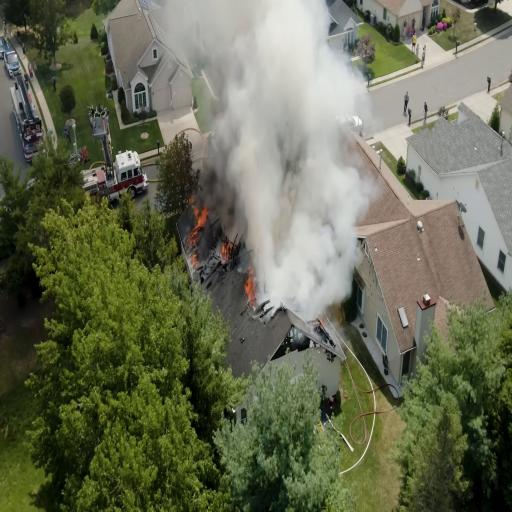smoke: (247, 68, 330, 281), (220, 0, 316, 99)
